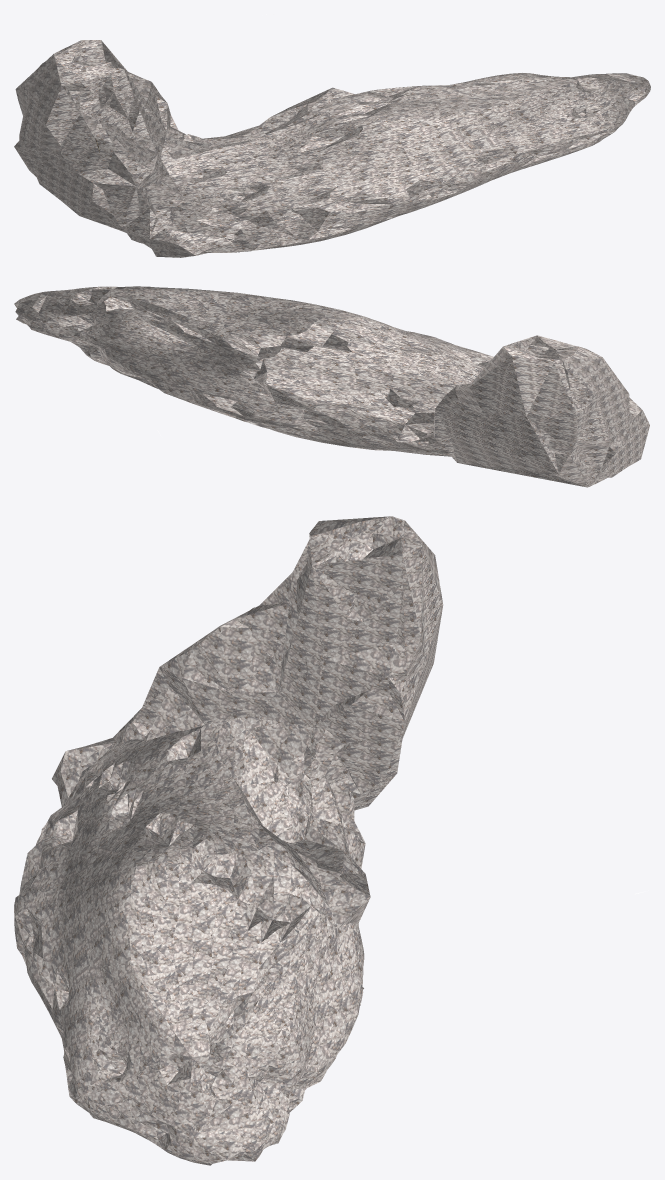
The model's file is BacuNiq.glb.
3 renders of one model, top to bottom at view 1: azimuth 30°, elevation 25°; view 2: azimuth 150°, elevation 25°; view 3: azimuth 270°, elevation 25°, orthographic. The views are drawn at different scales.
Parts seen in each view (by area): view 1: Group1; view 2: Group1; view 3: Group1.
Part boxes in pixels (left/top/right/bottom): Group1: left=14, top=14, right=650, bottom=257; Group1: left=14, top=286, right=649, bottom=487; Group1: left=14, top=516, right=648, bottom=1165.
Bounding box in the file's own units: 1.35 × 0.3693 × 0.7522.
20 materials, 19 textured.
